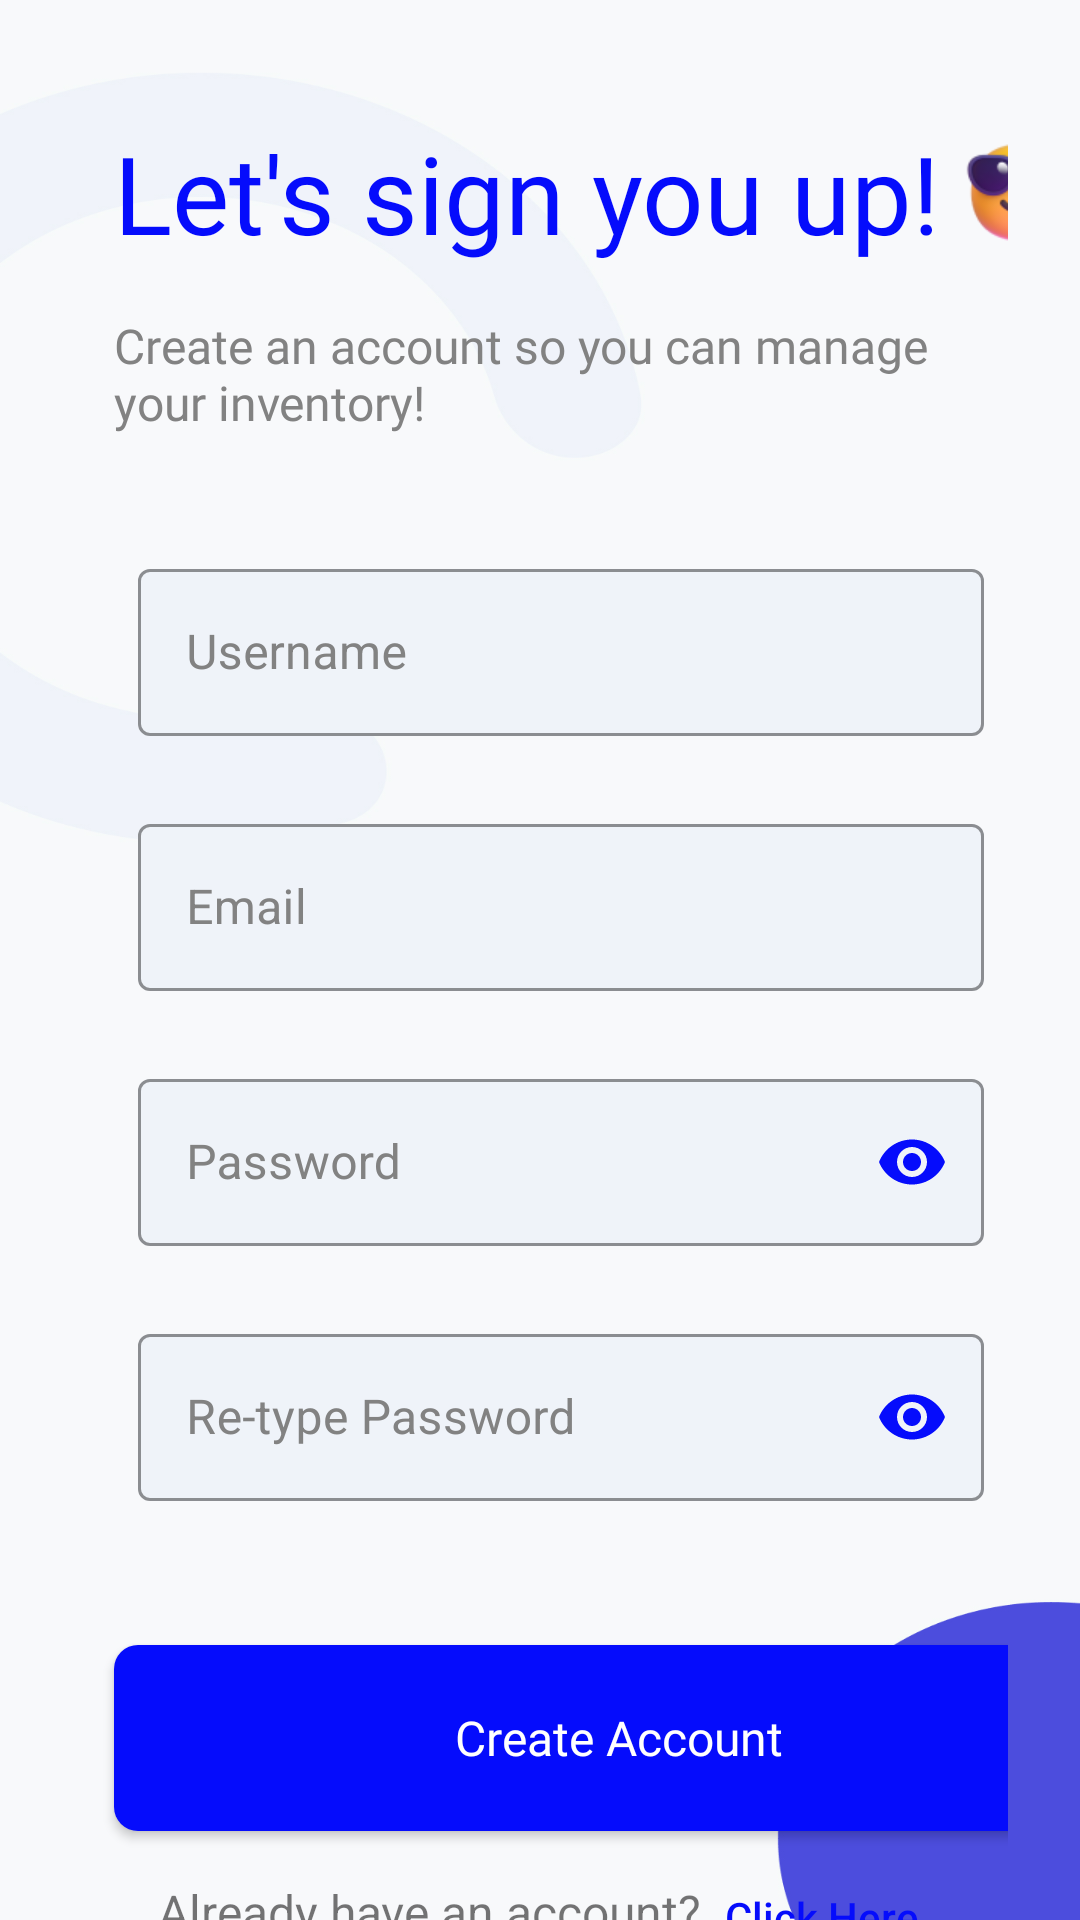

Named icons in this screenshot (1080px×1920px) and their centers, [x,y]:
smiling face glasses: [987,192]
